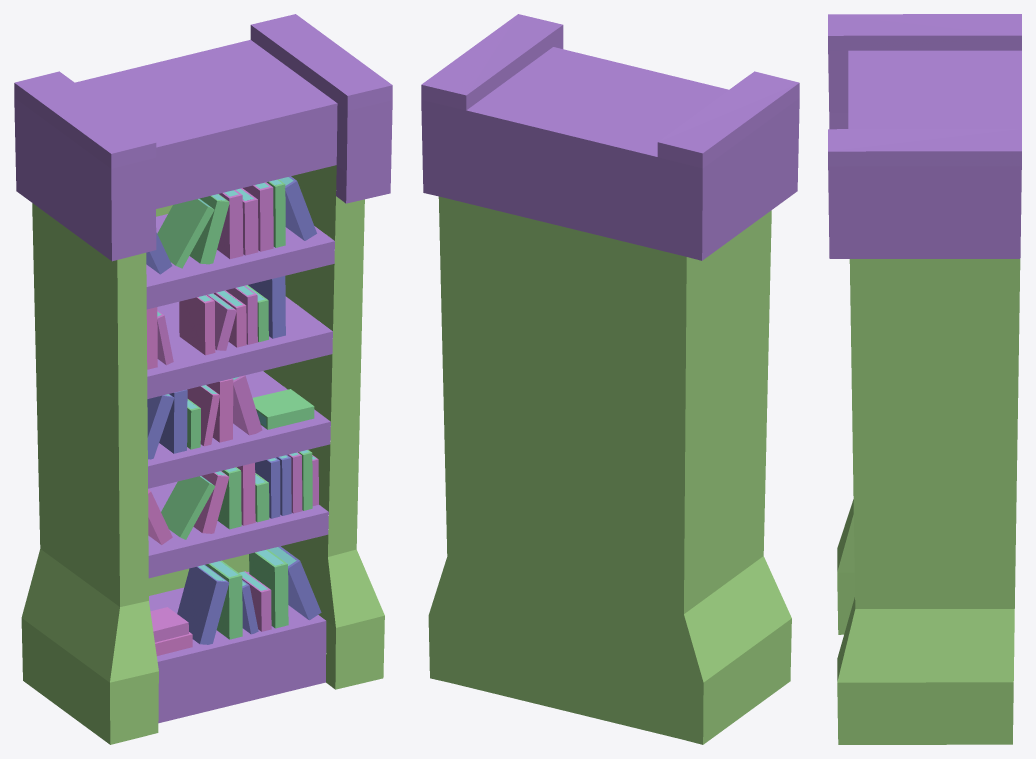
The model's file is BookCaseBooks.glb.
3 renders of one model, left to right at view 1: azimuth 30°, elevation 25°; view 2: azimuth 150°, elevation 25°; view 3: azimuth 270°, elevation 25°, orthographic.
Visible parts, largest first — view 1: BookCaseBooks_5, BookCaseBooks_6, BookCaseBooks_2, BookCaseBooks_1, BookCaseBooks_3, BookCaseBooks_0, BookCaseBooks_4; view 2: BookCaseBooks_6, BookCaseBooks_5; view 3: BookCaseBooks_6, BookCaseBooks_5.
Part boxes in pixels (x1,y1,x2,y2): BookCaseBooks_5: (14,14,392,723); BookCaseBooks_6: (21,165,384,744); BookCaseBooks_2: (157,179,314,639); BookCaseBooks_1: (146,176,321,644); BookCaseBooks_3: (150,182,318,642); BookCaseBooks_0: (146,290,255,655); BookCaseBooks_4: (157,177,315,590); BookCaseBooks_6: (428,196,791,744); BookCaseBooks_5: (421,14,799,260); BookCaseBooks_6: (837,259,1020,744); BookCaseBooks_5: (828,14,1021,258).
Size of the model in its own units: 0.7576 by 1.53 by 0.4519.
